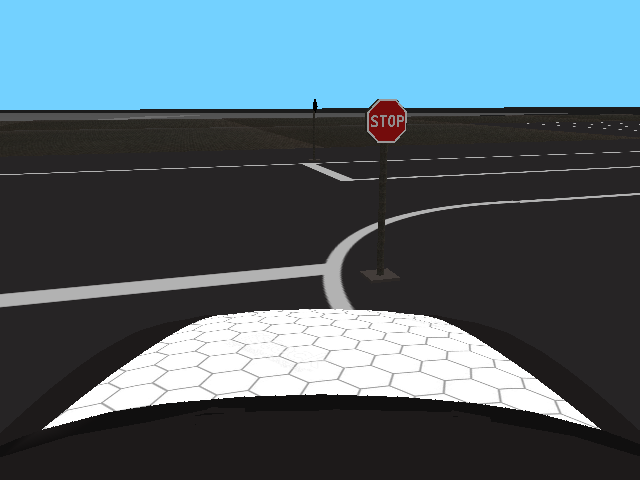stop: (366, 98, 408, 144)
